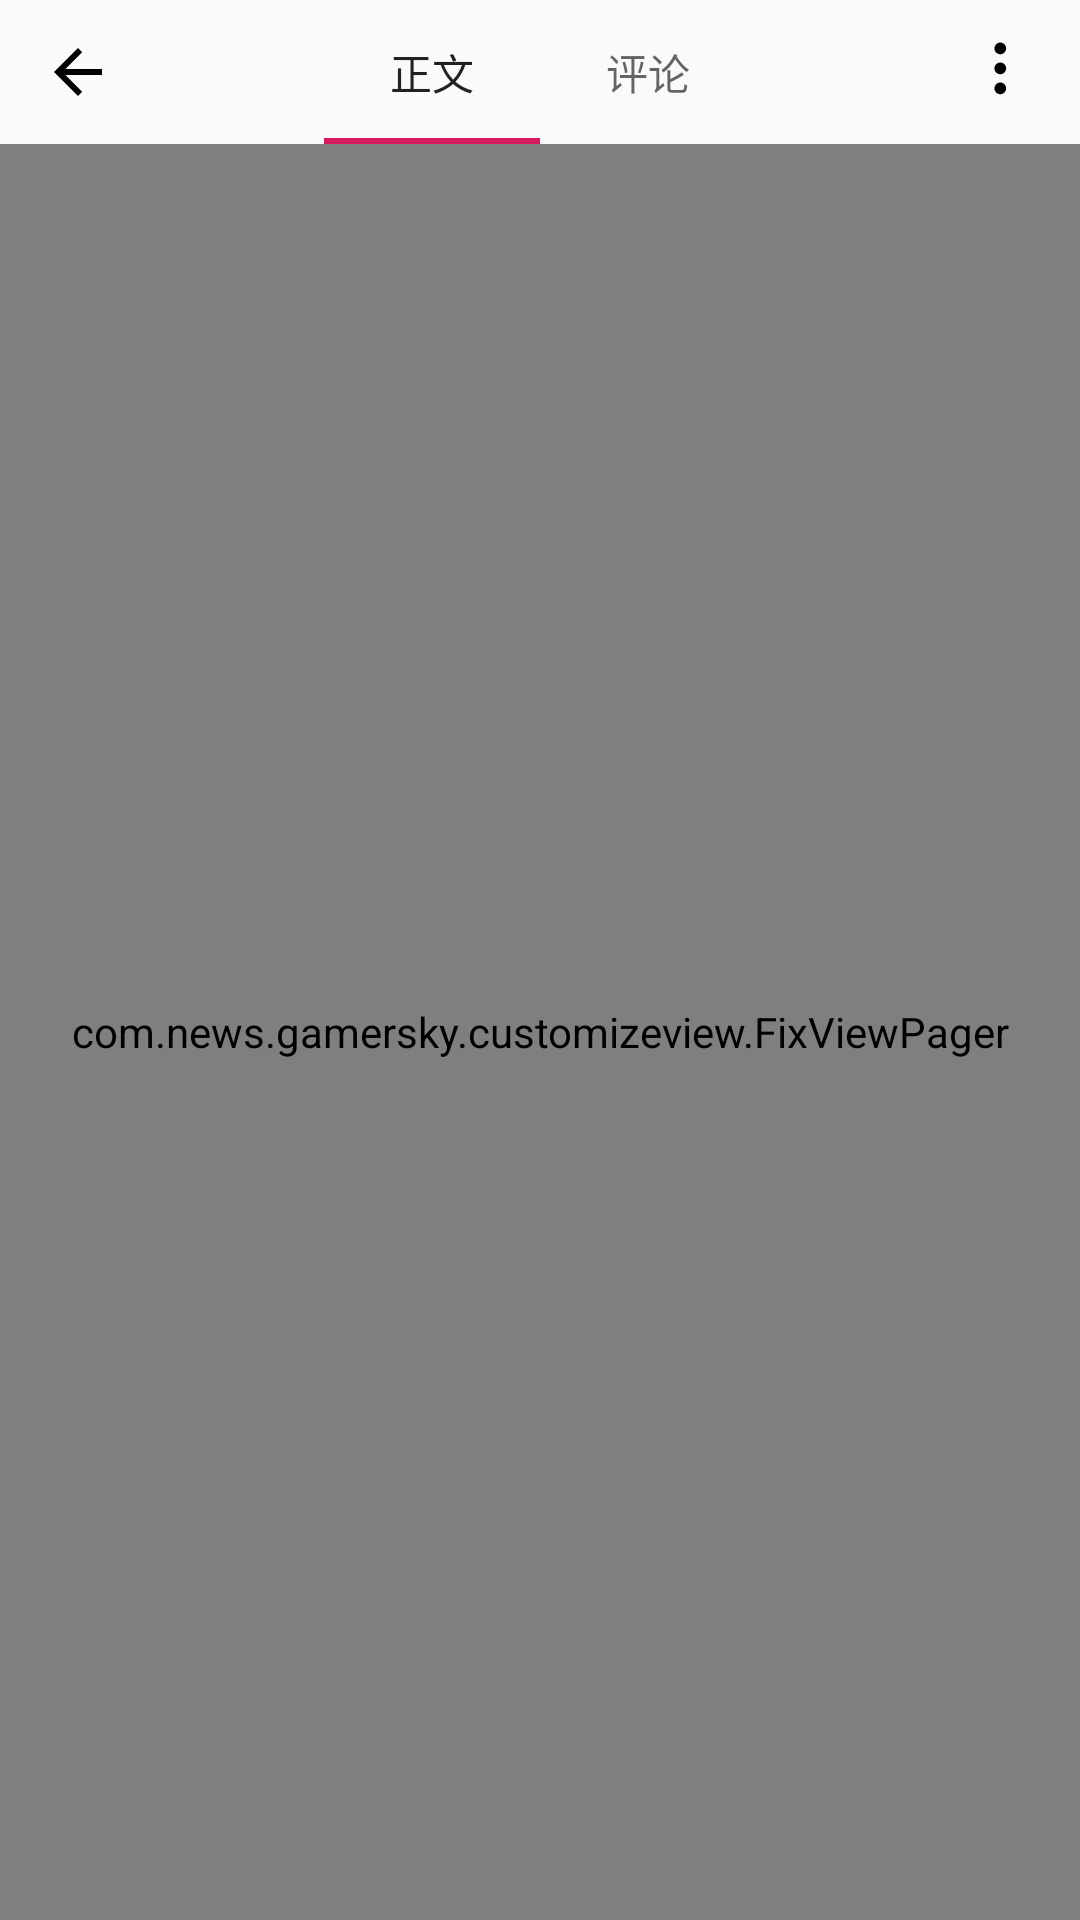

Icon bounding boxes for this 1080×1920 phone screenshot, format (x1, y1, x2, y2):
back: (54, 48, 102, 96)
more: (994, 42, 1007, 95)
